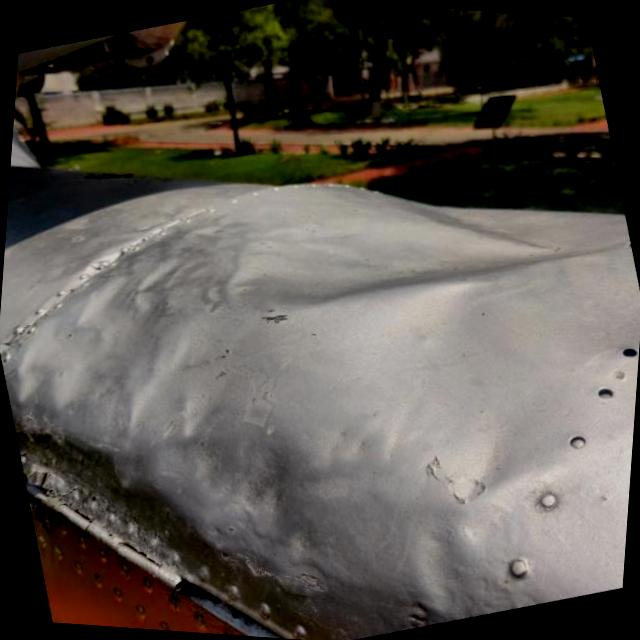Missing Fastener: (598, 386, 616, 398), (622, 344, 638, 356)
dent: (198, 175, 636, 328), (0, 250, 220, 461), (126, 354, 334, 564), (412, 518, 502, 626), (462, 410, 556, 503), (411, 604, 432, 627)
